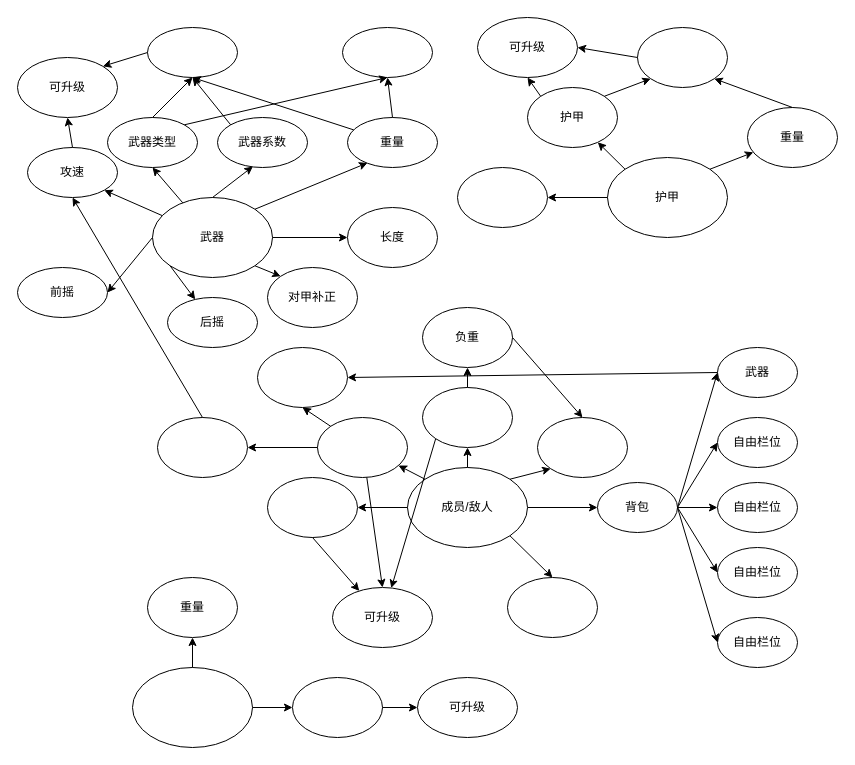
This 855x765 diagram has some shape labels left out. Each missing label, with the centre of its shape:
伤害: (302,377)
体力: (467,417)
力量: (362,447)
对削韧抵抗: (682,57)
技能: (552,607)
护甲类型: (502,197)
效果: (337,707)
武器伤害: (192,52)
武器体力消耗: (387,52)
武器控制力: (202,447)
生命值: (312,507)
移动速度: (582,447)
饰品: (192,707)
